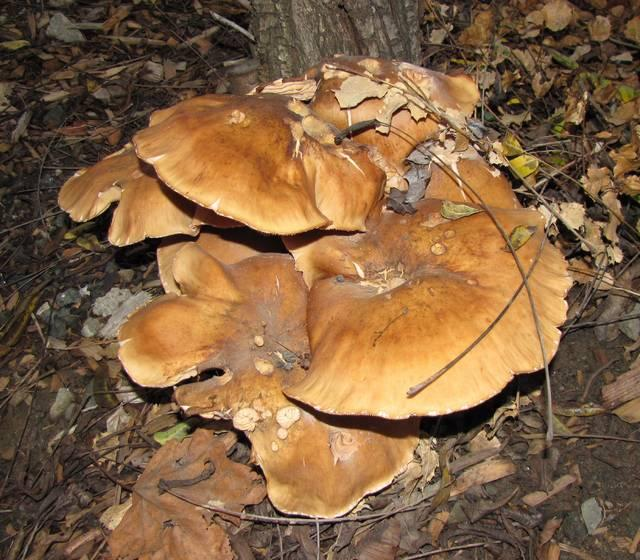edible_mushroom: (56, 53, 573, 519)
